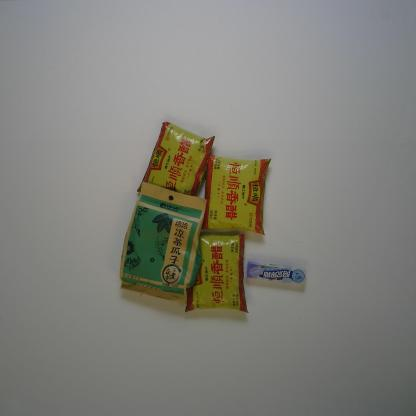Candy: (244, 260, 307, 287)
Dried Food: (118, 181, 208, 306)
Seasoner: (136, 120, 216, 197), (201, 153, 272, 237), (183, 233, 250, 315)
